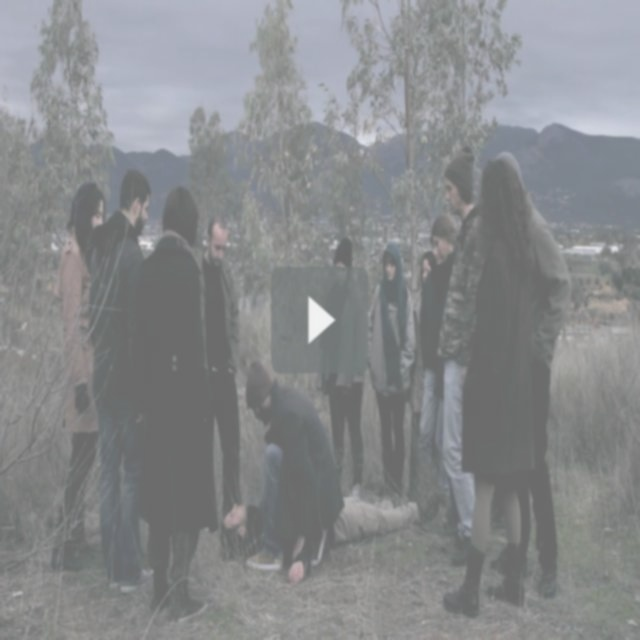pessoa: (440, 156, 543, 622), (484, 147, 574, 601), (133, 184, 219, 625), (89, 168, 154, 591), (47, 178, 107, 576), (247, 354, 346, 574), (218, 471, 446, 564), (442, 148, 484, 569), (318, 232, 370, 502), (199, 214, 241, 534), (367, 240, 417, 500), (420, 228, 458, 521), (430, 214, 459, 492), (408, 248, 436, 511)
